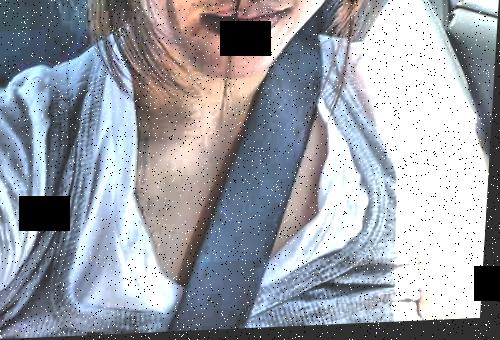seatbelt: (189, 29, 360, 302)
